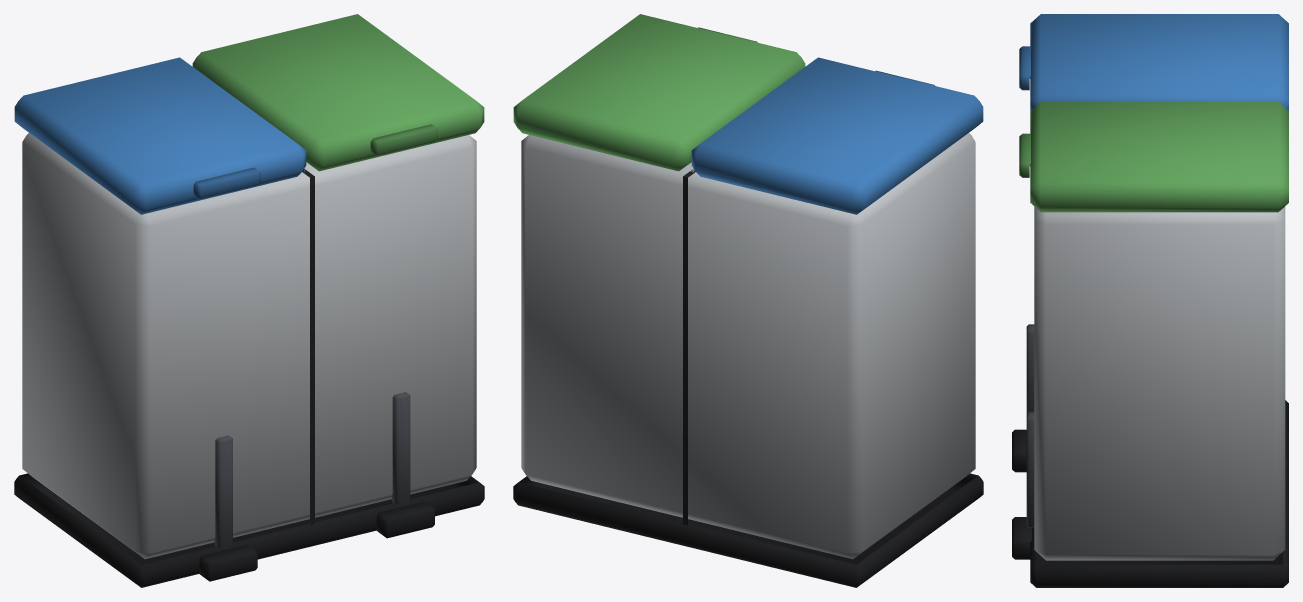
The model's file is RecycleBin_Dual_01.glb.
3 renders of one model, left to right at view 1: azimuth 30°, elevation 25°; view 2: azimuth 150°, elevation 25°; view 3: azimuth 270°, elevation 25°, orthographic.
Parts seen in each view (by area): view 1: SM_RecycleBin_Dual_01; view 2: SM_RecycleBin_Dual_01; view 3: SM_RecycleBin_Dual_01.
Boxes of the visible parts, <box> form: SM_RecycleBin_Dual_01: <box>14,14,484,587</box>; SM_RecycleBin_Dual_01: <box>513,14,983,587</box>; SM_RecycleBin_Dual_01: <box>1012,14,1288,587</box>.
Bounding box in the file's own units: 0.556 × 0.61 × 0.375.
1 material, 1 textured.
